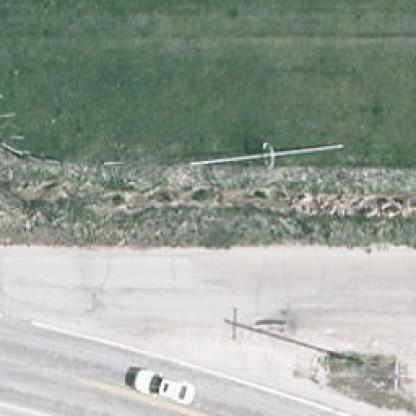car: (130, 367, 196, 408)
